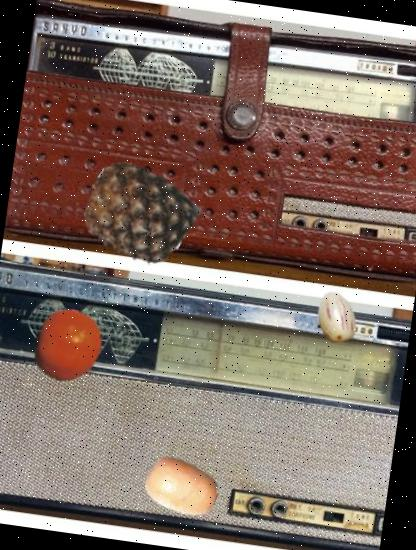Clementine: (26, 304, 110, 388)
Kumquats: (140, 445, 224, 530)
Pepino: (306, 288, 366, 348)
Pineapple: (78, 152, 198, 272)
